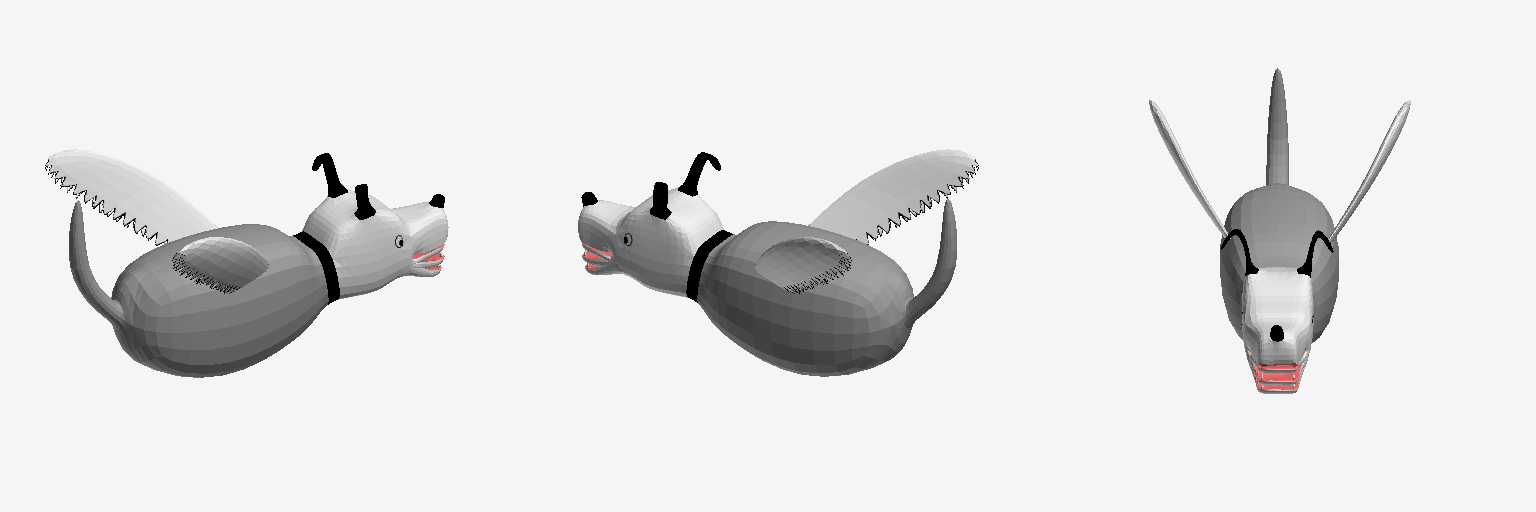
3 views of the same model, side by side, from view 1: azimuth 30°, elevation 25°; view 2: azimuth 150°, elevation 25°; view 3: azimuth 270°, elevation 25° (orthographic).
Visible parts, largest first — view 1: Dog-Body, Dog-Head3, Dog-LeftWing, Dog-RightWing, Dog-Head1; view 2: Dog-Body, Dog-Head3, Dog-RightWing, Dog-LeftWing, Dog-Head1; view 3: Dog-Body, Dog-Head3, Dog-LeftWing, Dog-RightWing, Dog-Head2, Dog-Head1.
Part boxes in pixels (x1,y1,x2,y2): Dog-Body: (69,200,339,377); Dog-Head3: (302,153,448,299); Dog-LeftWing: (45,149,217,245); Dog-RightWing: (172,237,269,293); Dog-Head1: (387,249,441,283); Dog-Body: (686,199,956,376); Dog-Head3: (578,152,723,297); Dog-RightWing: (808,149,978,244); Dog-LeftWing: (754,237,851,293); Dog-Head1: (585,247,638,281); Dog-Body: (1220,68,1338,342); Dog-Head3: (1221,229,1333,372); Dog-LeftWing: (1329,100,1410,242); Dog-RightWing: (1149,100,1230,238); Dog-Head2: (1243,334,1311,384); Dog-Head1: (1242,329,1312,393).
Size of the model in its own units: 6.57 by 3.38 by 3.97.
4 materials, 2 textured.